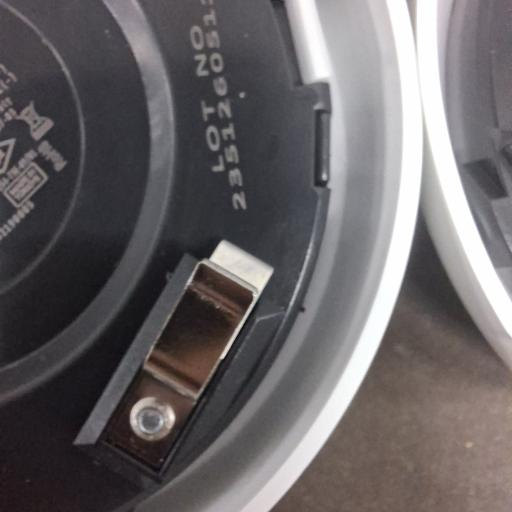yayli: (92, 238, 271, 477)
